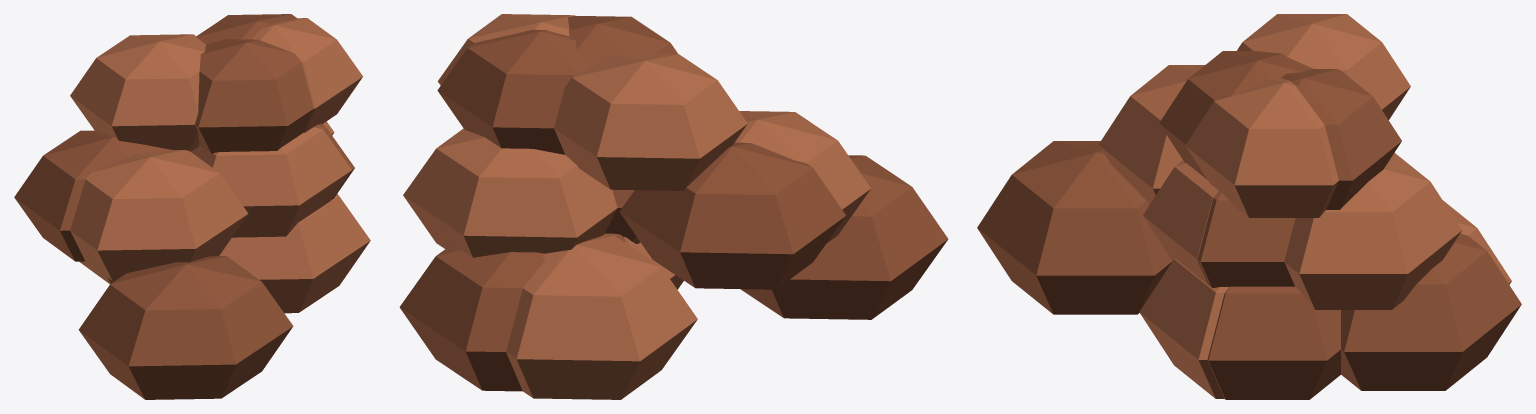
Rendered from pile_clay_3.glb.
3 renders of one model, left to right at view 1: azimuth 30°, elevation 25°; view 2: azimuth 150°, elevation 25°; view 3: azimuth 270°, elevation 25°, orthographic. The views are drawn at different scales.
Visible parts, largest first — view 1: pile_clay_3; view 2: pile_clay_3; view 3: pile_clay_3.
Part boxes in pixels (x1,y1,x2,y2): pile_clay_3: (14,14,370,399); pile_clay_3: (399,14,948,399); pile_clay_3: (977,14,1521,399).
Bounding box in the file's own units: 0.8825 × 0.708 × 1.1.
